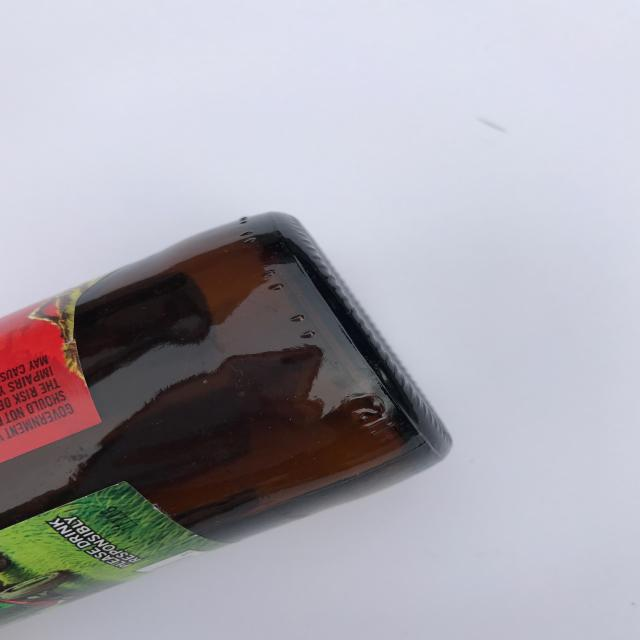glass: (0, 210, 454, 632)
